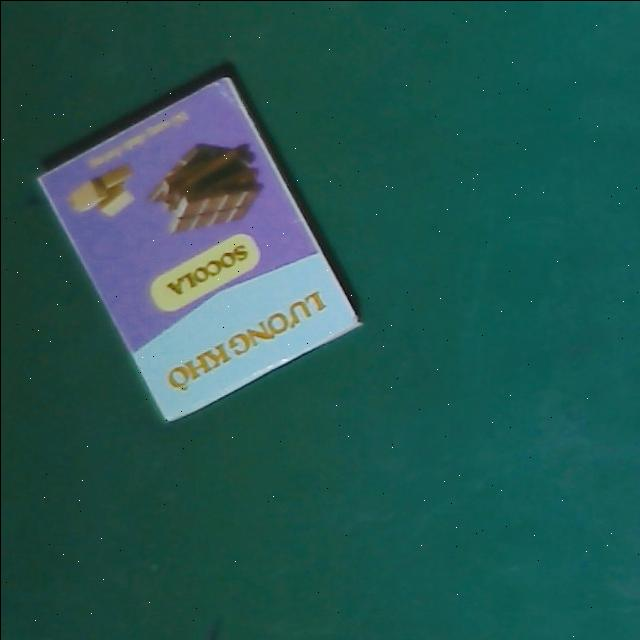socola: (34, 72, 361, 426)
